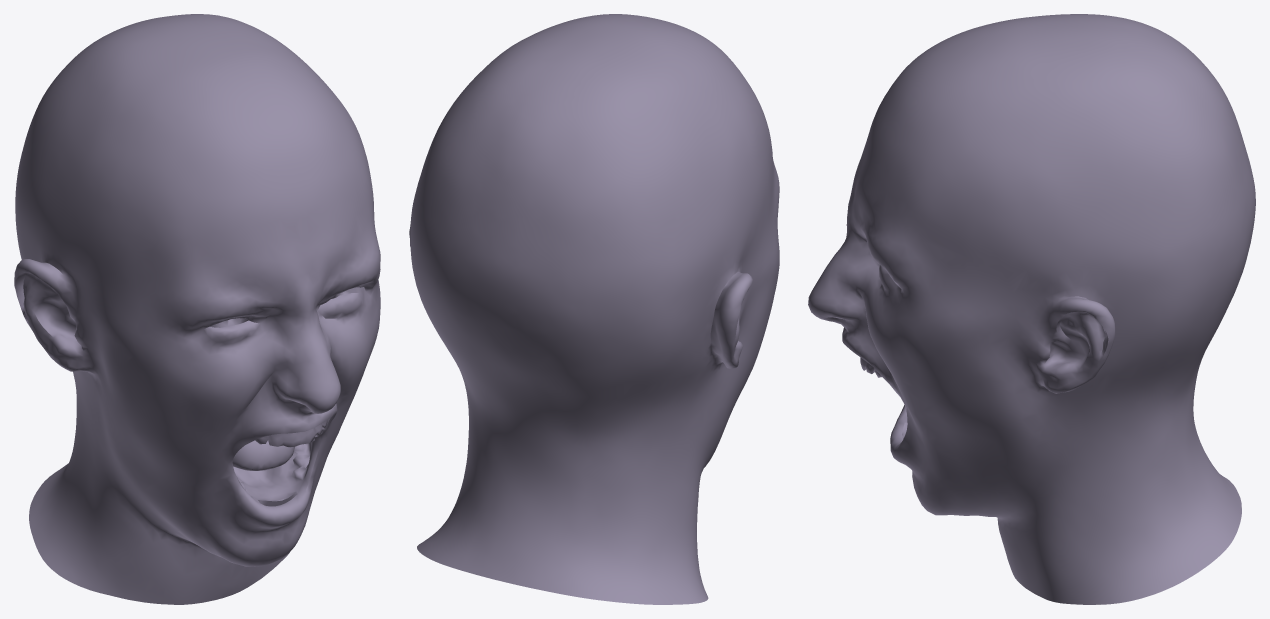
File: 表情_石膏头像_男_opt.glb
3 views of the same model, side by side, from view 1: azimuth 30°, elevation 25°; view 2: azimuth 150°, elevation 25°; view 3: azimuth 270°, elevation 25° (orthographic).
Parts seen in each view (by area): view 1: LowPoly; view 2: LowPoly; view 3: LowPoly.
Part boxes in pixels (<box>): LowPoly: <box>14,14,380,604</box>; LowPoly: <box>409,14,779,604</box>; LowPoly: <box>808,14,1255,604</box>.
Size of the model in its own units: 0.2562 by 0.4 by 0.3018.
